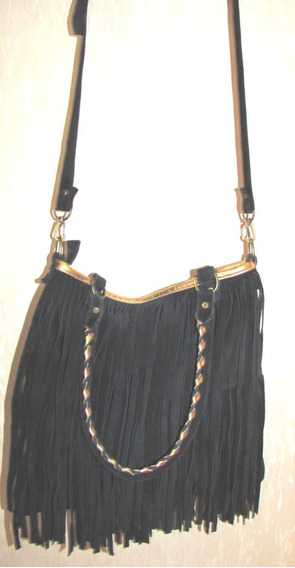cartera: (8, 2, 268, 556)
